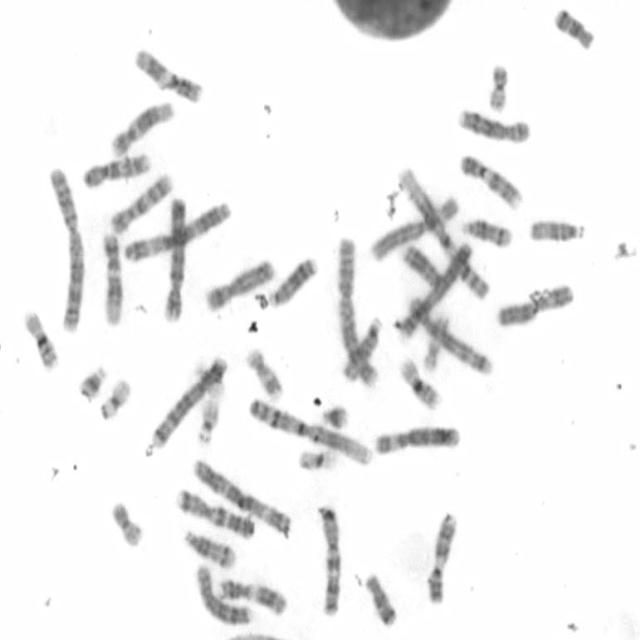A1: (395, 162, 492, 302), (246, 393, 375, 468)
A2: (333, 230, 379, 390), (46, 164, 86, 334)
A3: (188, 453, 293, 538), (121, 194, 232, 264)
B4: (394, 239, 474, 339), (160, 190, 189, 324)
B5: (147, 350, 229, 450), (405, 292, 494, 376)
C10: (106, 169, 175, 237), (79, 148, 153, 192)
C11: (129, 42, 206, 105), (215, 574, 289, 616)
C12: (107, 96, 176, 157), (98, 229, 124, 327)
C6: (364, 187, 460, 264), (370, 419, 463, 457)
C7: (174, 484, 258, 540), (314, 502, 342, 618)
C8: (193, 559, 254, 627), (454, 103, 531, 145)
C9: (456, 150, 524, 210), (424, 506, 459, 606)
D13: (266, 250, 320, 308), (400, 240, 446, 288)
D14: (180, 525, 237, 570), (457, 212, 514, 249)
D15: (339, 311, 384, 383), (525, 214, 587, 244)
E16: (19, 303, 61, 372), (395, 353, 442, 412)
E17: (242, 342, 286, 401), (421, 310, 451, 372)
E18: (550, 3, 596, 52), (362, 568, 399, 628)
F19: (96, 374, 133, 422), (294, 442, 339, 472)
F20: (107, 494, 145, 548), (484, 58, 510, 113)
G21: (74, 359, 108, 404), (318, 399, 350, 430)
G22: (193, 393, 221, 444), (192, 362, 226, 402)
X: (493, 278, 577, 330), (202, 255, 276, 313)
